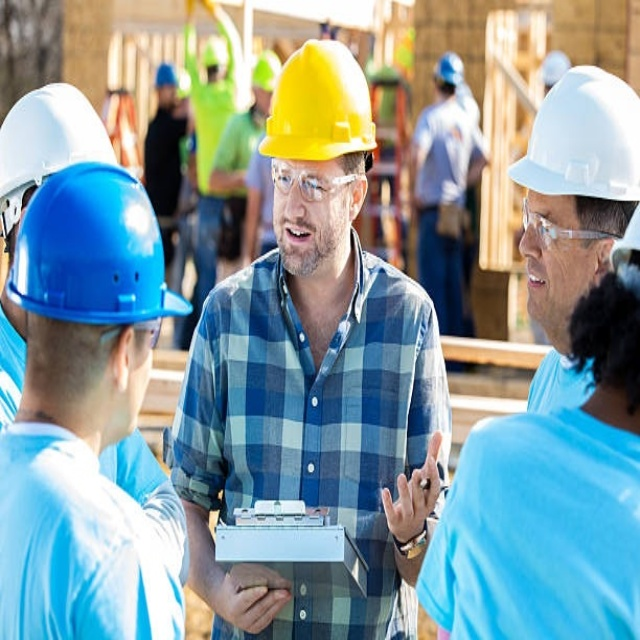Gafas: (520, 195, 616, 251), (271, 163, 363, 205), (102, 315, 169, 355)
Sin_guantes: (381, 427, 445, 548), (222, 562, 294, 636)
Sin_mascara: (280, 216, 318, 267), (526, 260, 553, 317)
